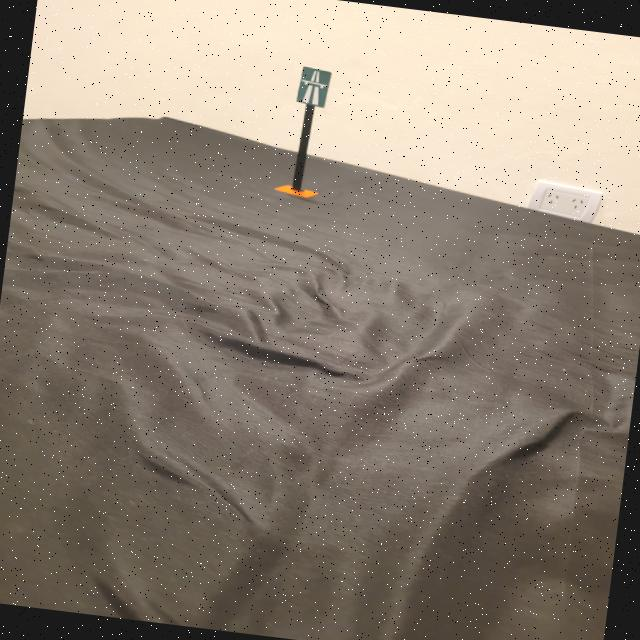highway_entrance: (294, 65, 332, 108)
